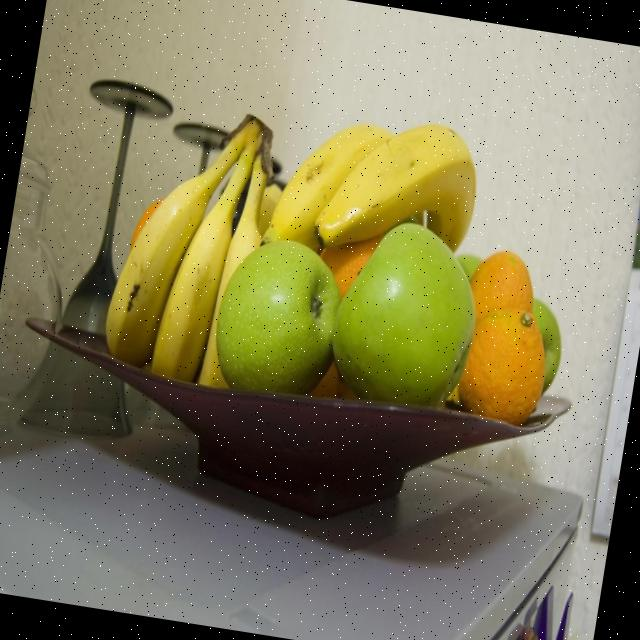banana: (146, 162, 246, 386), (313, 125, 476, 260), (104, 171, 214, 363)
